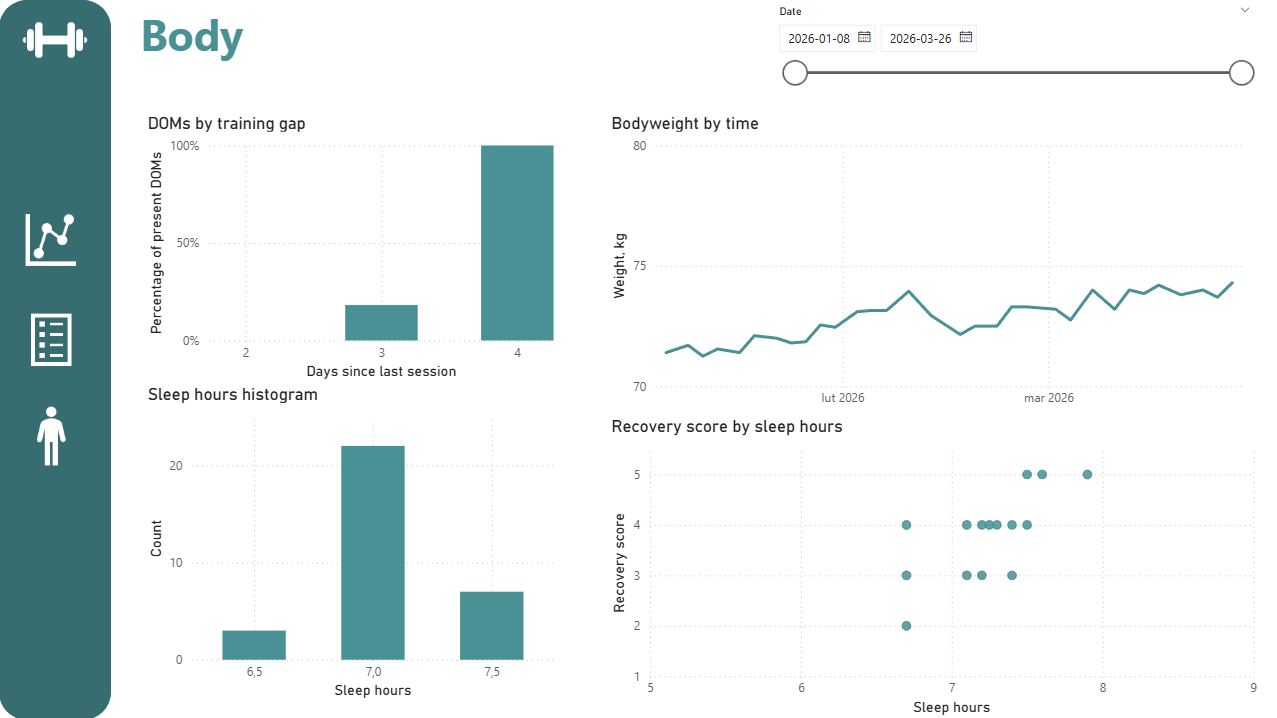

Layout of this report page (visuals, bound fields, positions):
{"tool":"powerbi","page":{"name":"Body","canvas":[1280,720],"ordinal":3},"visuals":[{"type":"columnChart","title":"Sleep hours histogram","fields":{"Y":["CountNonNull(sessions.sleep_hours (bins))"],"Category":["sessions.sleep_hours (bins)"]},"box":[144,384,416,320],"z":0},{"type":"lineChart","title":"Bodyweight by time","fields":{"Category":["sessions.date"],"Y":["Avg(sessions.bodyweight_kg)"]},"box":[608,112,656,304],"z":1000},{"type":"shape","box":[0,0,112,720],"z":2000},{"type":"image","box":[0,0,112,80],"z":3000},{"type":"slicer","fields":{"Values":["sessions.date"]},"box":[768,0,496,96],"z":4000},{"type":"scatterChart","title":"Recovery score by sleep hours","fields":{"X":["sessions.sleep_hours"],"Y":["sessions.recovery_score"]},"box":[608,416,656,304],"z":5000},{"type":"columnChart","title":"DOMs by training gap","fields":{"Category":["sessions.days_since_last_session"],"Y":["Avg(sessions.doms_boolean)"]},"box":[144,112,416,272],"z":6000},{"type":"image","box":[8,200,88,80],"z":7000},{"type":"image","box":[16,304,72,72],"z":8000},{"type":"image","box":[16,400,72,72],"z":9000},{"type":"textbox","box":[136,0,392,80],"z":10000}]}

Visuals, with their boxes on the page's 1280x720 design canvas (x1, y1, x2, y2). These are canvas units, not pixel positions in the 1277x718 screenshot, which may show the page scaled, cropped or inside an application window:
"Sleep hours histogram" columnChart: [x1=144, y1=384, x2=560, y2=704]
"Bodyweight by time" lineChart: [x1=608, y1=112, x2=1264, y2=416]
shape: [x1=0, y1=0, x2=112, y2=720]
image: [x1=0, y1=0, x2=112, y2=80]
slicer - sessions.date: [x1=768, y1=0, x2=1264, y2=96]
"Recovery score by sleep hours" scatterChart: [x1=608, y1=416, x2=1264, y2=720]
"DOMs by training gap" columnChart: [x1=144, y1=112, x2=560, y2=384]
image: [x1=8, y1=200, x2=96, y2=280]
image: [x1=16, y1=304, x2=88, y2=376]
image: [x1=16, y1=400, x2=88, y2=472]
textbox: [x1=136, y1=0, x2=528, y2=80]
